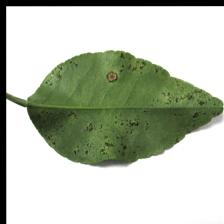canker: (34, 105, 142, 155)
